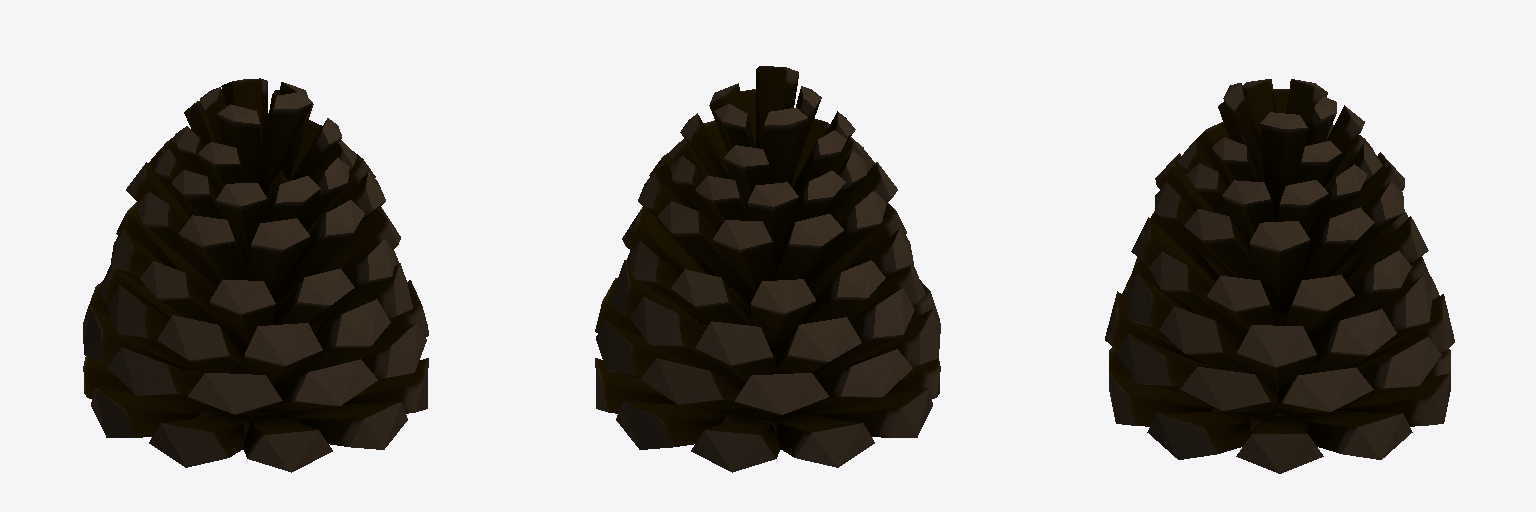
3 views of the same model, side by side, from view 1: azimuth 30°, elevation 25°; view 2: azimuth 150°, elevation 25°; view 3: azimuth 270°, elevation 25° (orthographic).
Visible parts, largest first — view 1: PineCone_mesh; view 2: PineCone_mesh; view 3: PineCone_mesh.
Part boxes in pixels (x1,y1,x2,y2): PineCone_mesh: (83,78,428,472); PineCone_mesh: (595,66,940,472); PineCone_mesh: (1105,79,1454,473).
Bounding box in the file's own units: 8.12 × 8.98 × 8.2.
1 materials, 1 textured.